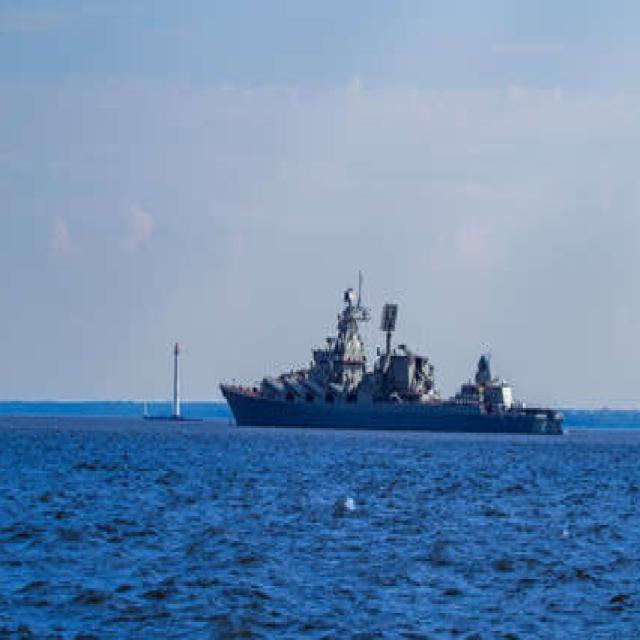navalvessels: (208, 282, 579, 470)
